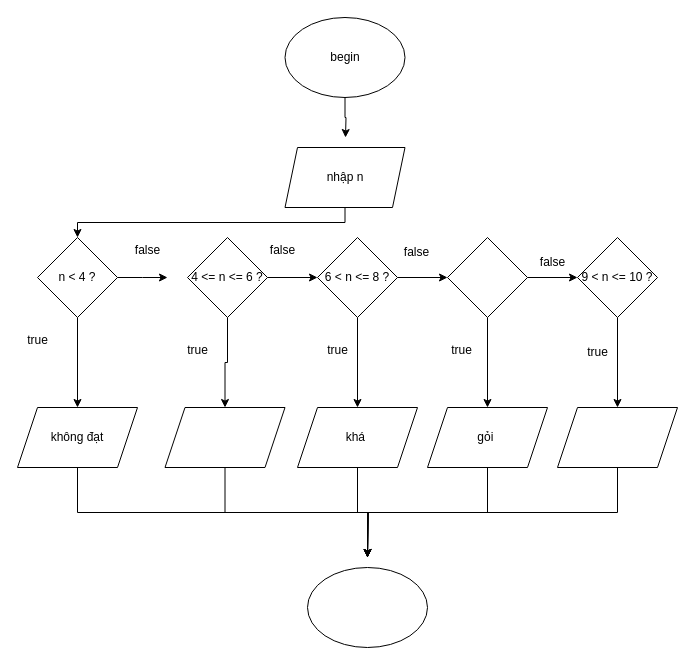
Image size: 695x665. Some labels were removed from this diagram. Each missing label, with the centre of its shape:
"8 < n <= 9 ?" belongs at (x=487, y=277).
"end" belongs at (x=367, y=607).
"trung bình" belongs at (x=224, y=437).
"xuất sắc" belongs at (x=617, y=437).
